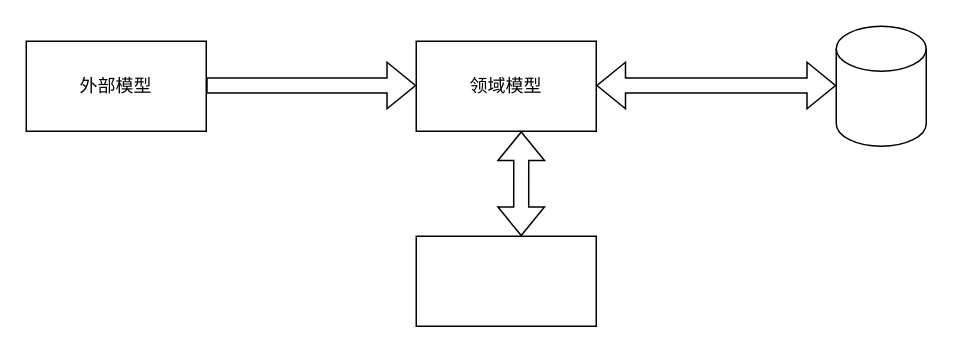
Some shapes in this 953 by 353 pixel diagram are drawn without their labels. The centre of each missing label's shape, as x and y in pixels:
API: the point at 505,280
DataBase: the point at 880,85
